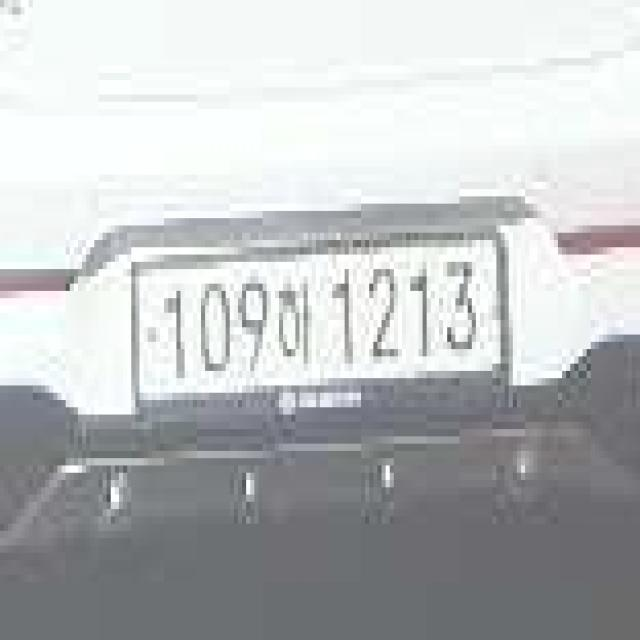illegal_plate: (129, 225, 513, 421)
